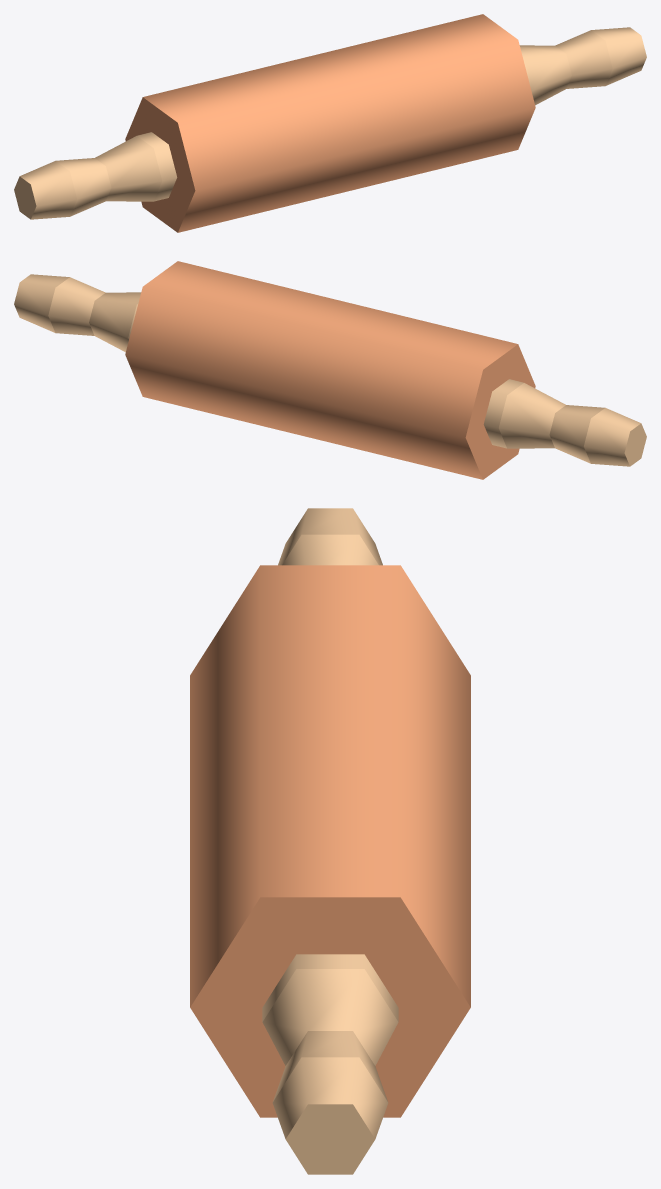
File: rollingPin.GLB
The picture shows the model from 3 angles, top to bottom: view 1: azimuth 30°, elevation 25°; view 2: azimuth 150°, elevation 25°; view 3: azimuth 270°, elevation 25°; orthographic projection. The views are drawn at different scales.
Visible parts, largest first — view 1: rollingPin; view 2: rollingPin; view 3: rollingPin.
Part boxes in pixels (x1,y1,x2,y2): rollingPin: (14,14,646,232); rollingPin: (14,261,646,479); rollingPin: (190,508,470,1174).
Bounding box in the file's own units: 0.8137 × 0.1403 × 0.162.
